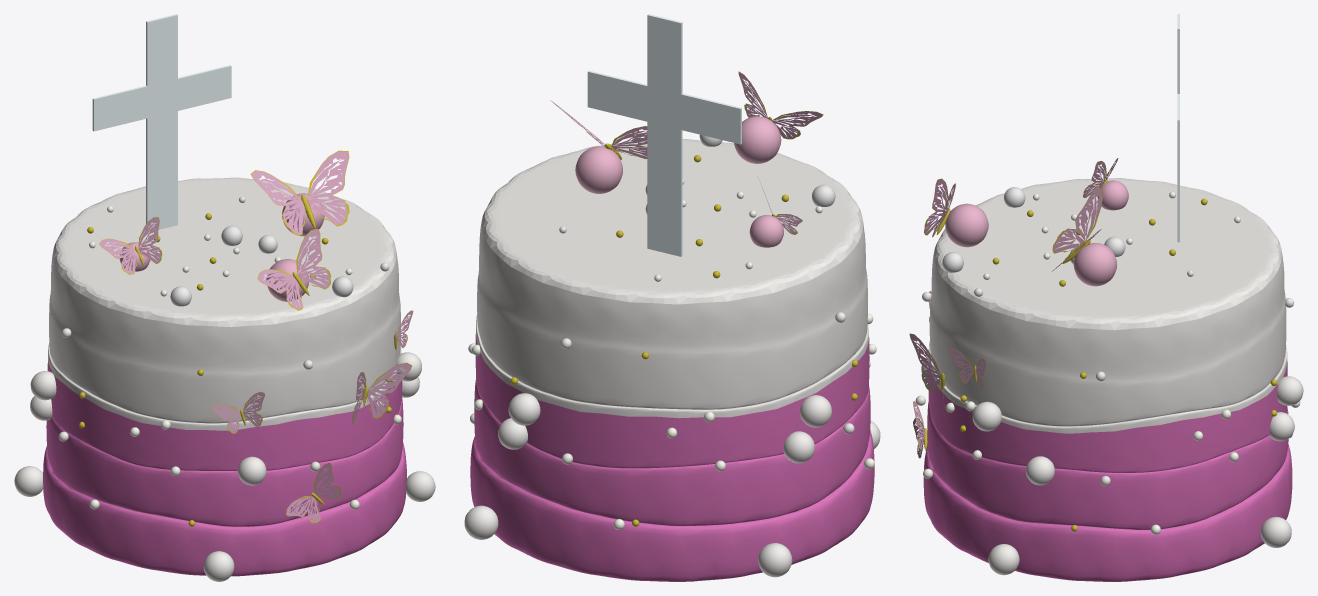
The model's file is Butterfly_2.1.glb.
3 views of the same model, side by side, from view 1: azimuth 30°, elevation 25°; view 2: azimuth 150°, elevation 25°; view 3: azimuth 270°, elevation 25° (orthographic). The views are drawn at different scales.
Parts seen in each view (by area): view 1: Cylinder.001, Cube.001, butterfly.016, butterfly.013, Sphere.031, butterfly.010, butterfly.015, Sphere.032, butterfly.001, butterfly.011, Sphere.049, Sphere.003 (+1 smaller); view 2: Cylinder.001, Cube.001, Sphere.031, Sphere.003, Sphere.049, Sphere.032, butterfly.013, butterfly.016, Sphere.004, Sphere.034, Sphere.033; view 3: Cylinder.001, Sphere.031, Sphere.049, Sphere.003, butterfly.016, Sphere.032, butterfly.013, butterfly.010, Sphere.035, Sphere.004, butterfly.012, Cube.001 (+1 smaller).
Part boxes in pixels (x1,y1,x2,y2): Cylinder.001: (43, 177, 406, 576); Cube.001: (92, 14, 231, 231); butterfly.016: (250, 150, 349, 235); butterfly.013: (257, 228, 331, 310); Sphere.031: (14, 466, 435, 581); butterfly.010: (352, 362, 411, 423); butterfly.015: (99, 217, 162, 274); Sphere.032: (30, 377, 419, 485); butterfly.001: (286, 462, 341, 523); butterfly.011: (212, 392, 264, 433); Sphere.049: (266, 259, 308, 301); Sphere.003: (282, 193, 324, 236); Cylinder.001: (470, 139, 874, 581); Cube.001: (587, 14, 741, 256); Sphere.031: (464, 421, 880, 577); Sphere.003: (575, 146, 622, 193); Sphere.049: (734, 116, 781, 163); Sphere.032: (498, 418, 814, 463); butterfly.013: (738, 71, 823, 139); butterfly.016: (550, 100, 647, 159); Sphere.004: (749, 215, 783, 247); Sphere.034: (508, 393, 540, 425); Sphere.033: (800, 395, 831, 427); Cylinder.001: (923, 178, 1292, 581); Sphere.031: (925, 440, 1291, 575); Sphere.049: (945, 203, 988, 247); Sphere.003: (1073, 243, 1117, 286); butterfly.016: (1052, 185, 1103, 271); Sphere.032: (921, 357, 1294, 485); butterfly.013: (924, 178, 955, 237); butterfly.010: (909, 333, 944, 415); Sphere.035: (972, 401, 1001, 431); Sphere.004: (1097, 180, 1128, 210); butterfly.012: (948, 347, 985, 389); Cube.001: (1177, 14, 1179, 242).
Bounding box in the file's own units: 0.1636 × 0.2191 × 0.1662.
